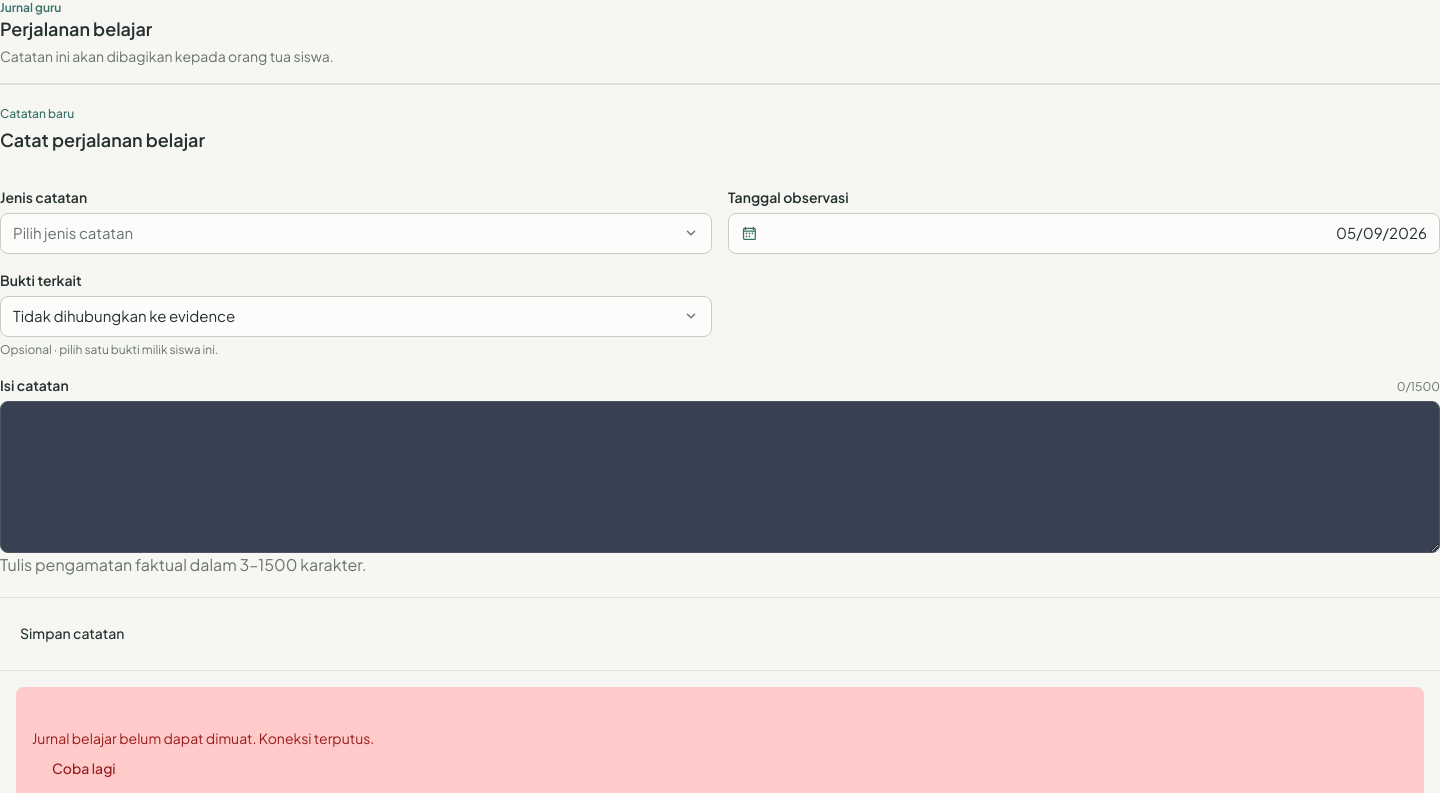
Test: StudentLearningJournalSection Teacher › menampilkan error dan retry yang memuat timeline kembali
Expected: the text "Jurnal belajar belum dapat dimuat. Koneksi terputus." is shown, [32,730,374,750]
Click the button "Coba lagi". click: (84, 770)
box: [32,750,136,790]
(page scrolled)
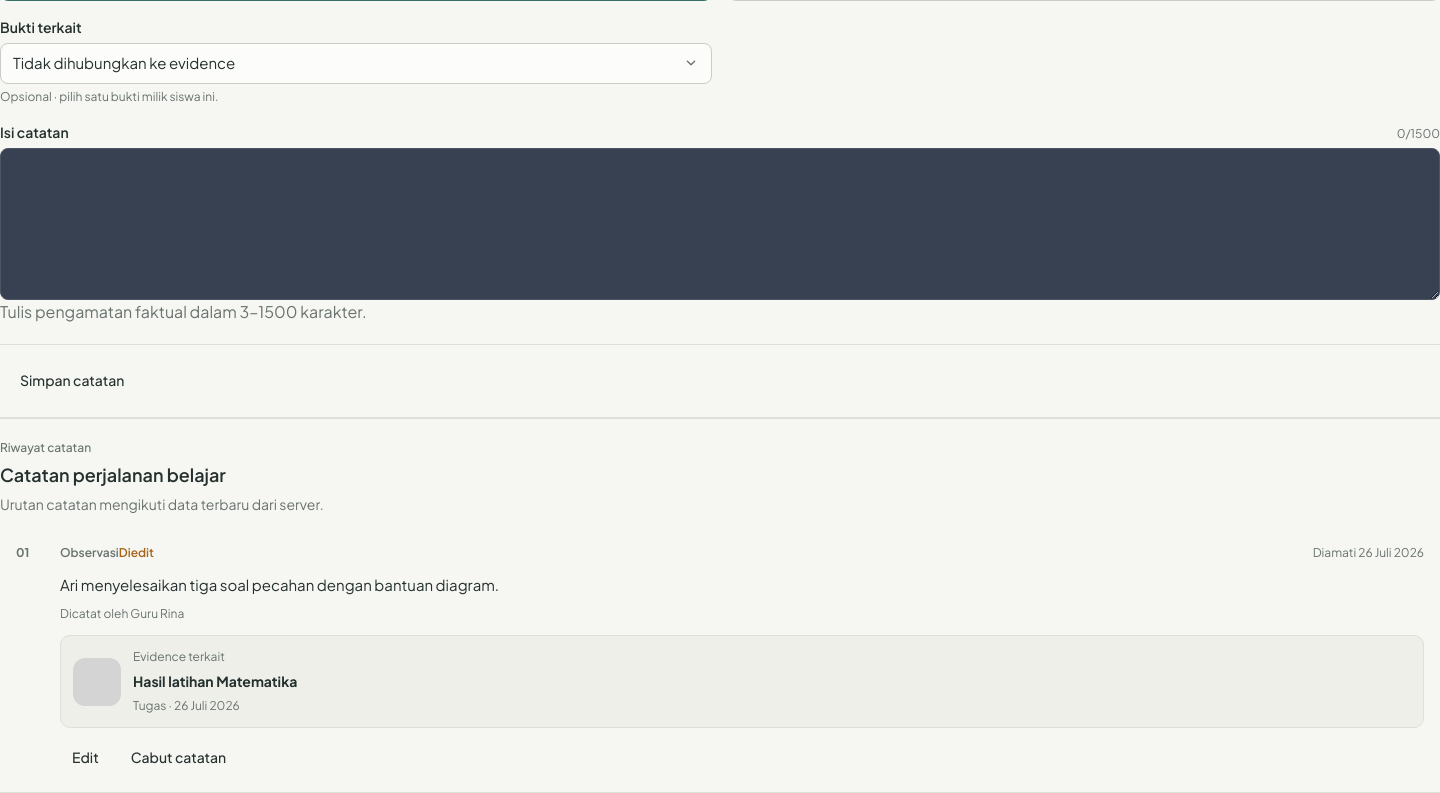
Now the text "Ari menyelesaikan tiga soal pecahan dengan bantuan diagram." is shown, box [60,576,499,594]
